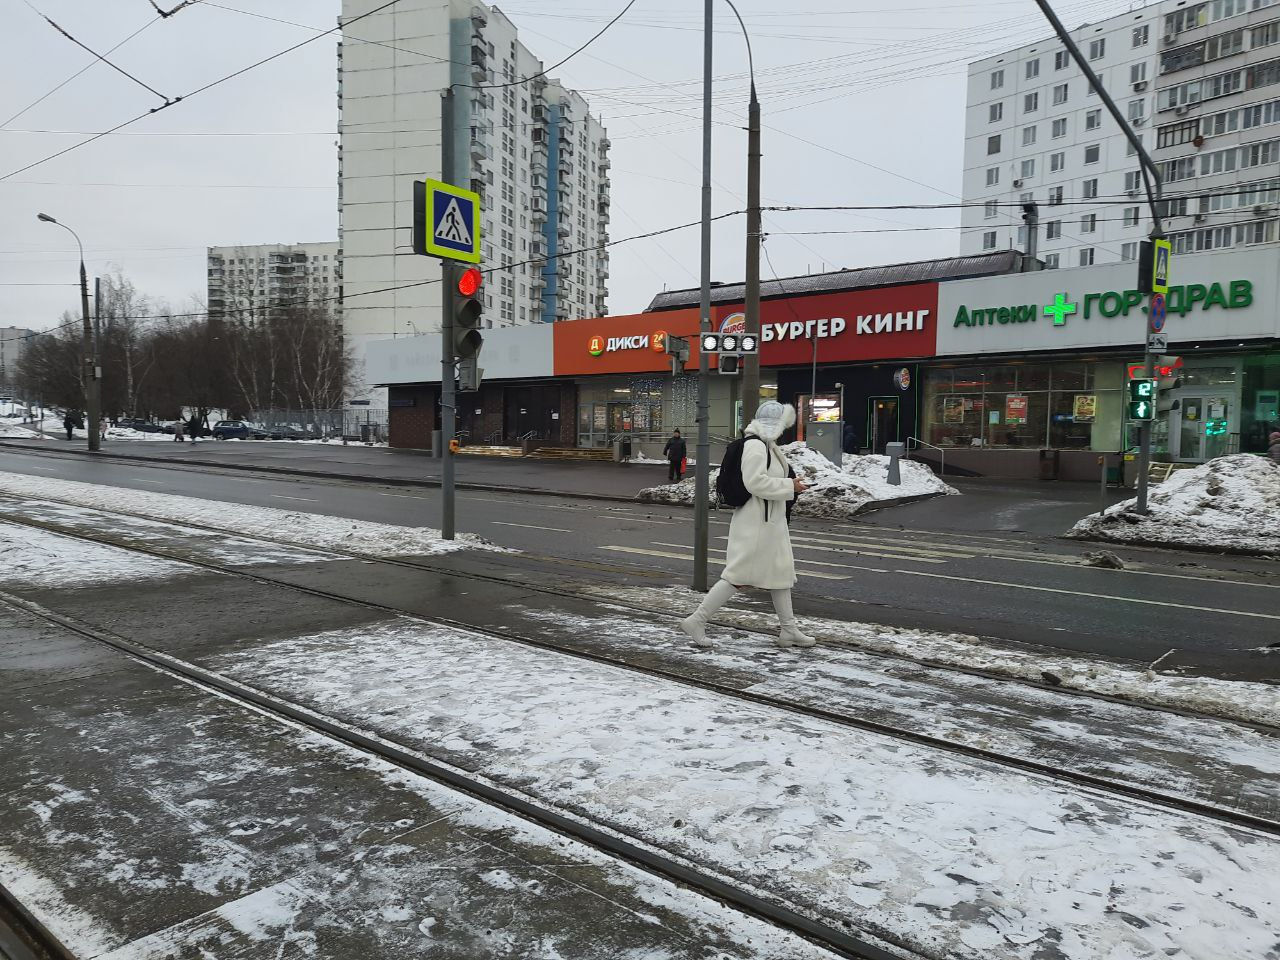sombie: (679, 390, 827, 671)
